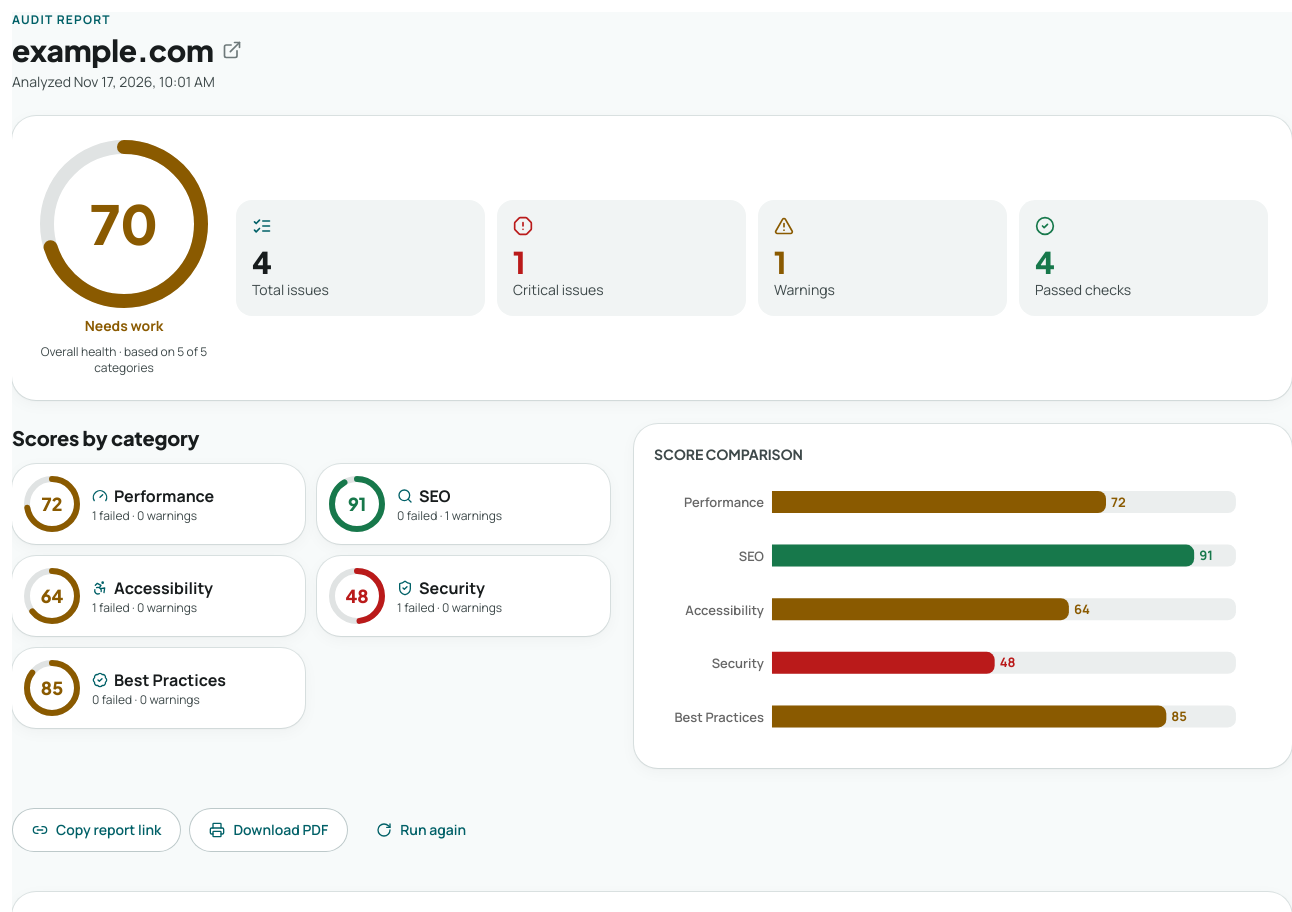
ReportView: actions › tells the user when copying is not possible
The image size is (1292, 912).
What coordinates should you click on to do the following:
click the button "Copy report link"
I would click on:
 (97, 830)
Its box is x1=12 y1=808 x2=181 y2=852.
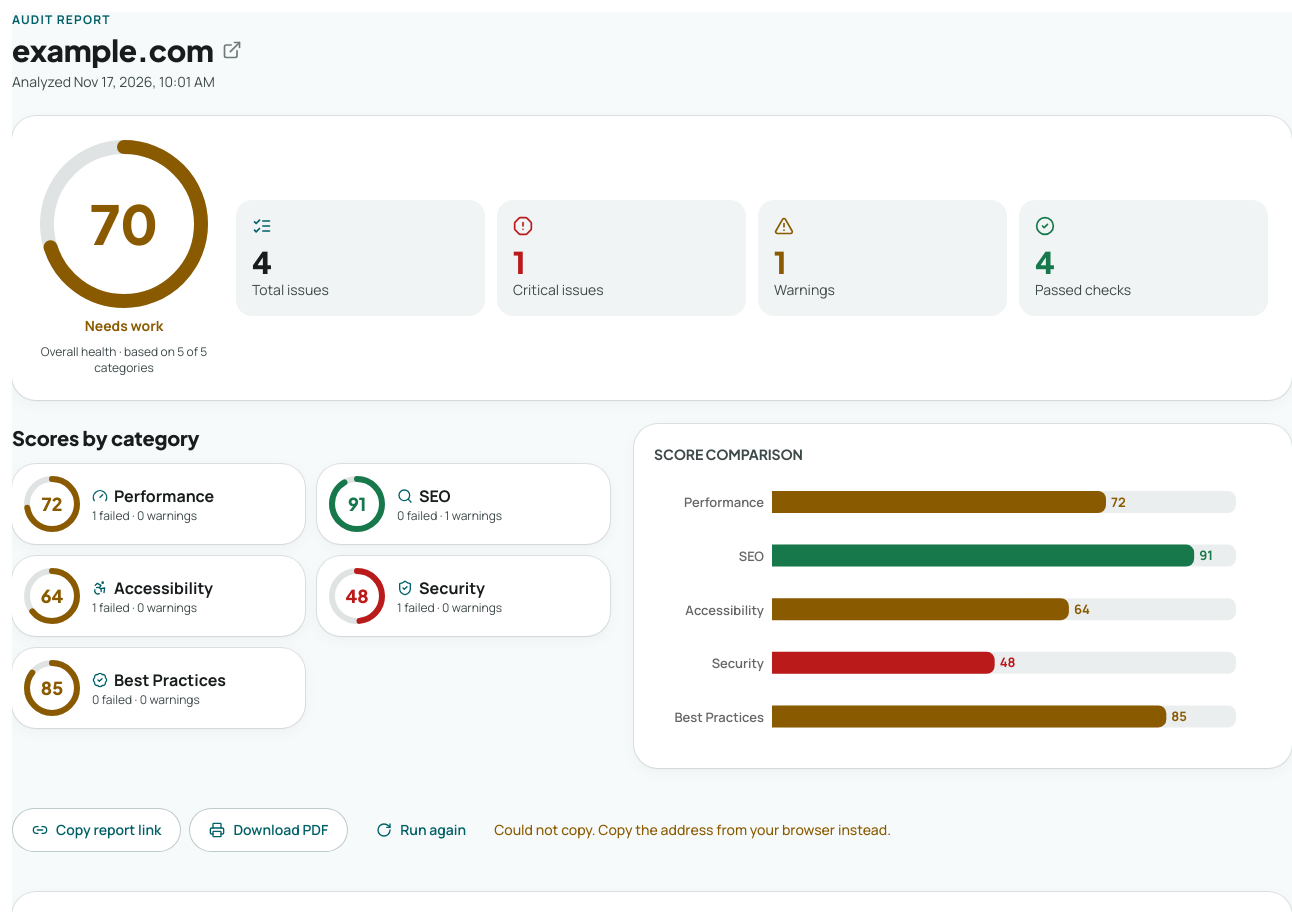
Now the text "Could not copy. Copy the address from your browser instead." is shown, box x1=494 y1=820 x2=891 y2=840
